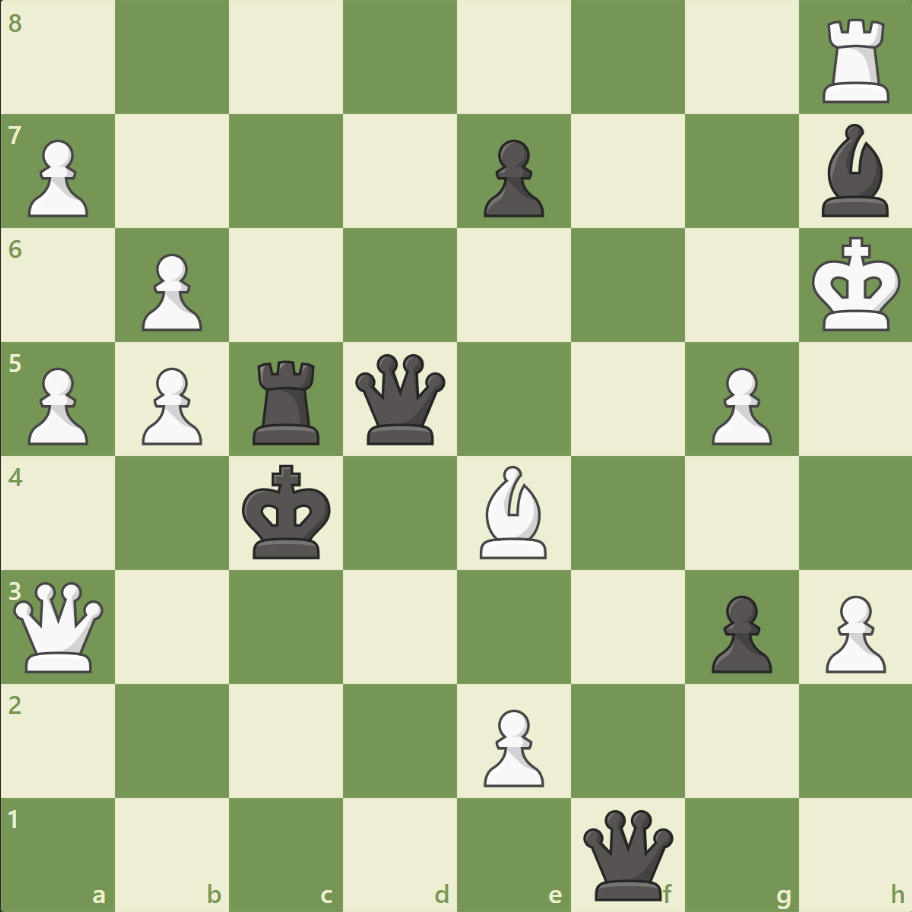B: (471, 460, 555, 563)
K: (806, 231, 906, 339)
P: (20, 132, 95, 223), (133, 246, 208, 337), (20, 359, 95, 450), (133, 359, 208, 450), (701, 359, 776, 450), (474, 700, 549, 791), (815, 586, 889, 677)
Q: (10, 576, 109, 676)
R: (814, 12, 897, 109)
b: (812, 120, 896, 222)
k: (238, 458, 338, 566)
p: (474, 132, 549, 223), (701, 586, 776, 677)
q: (351, 349, 450, 449), (578, 804, 677, 903)
r: (246, 352, 329, 449)
